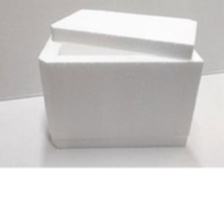foam_box: (32, 5, 209, 152)
